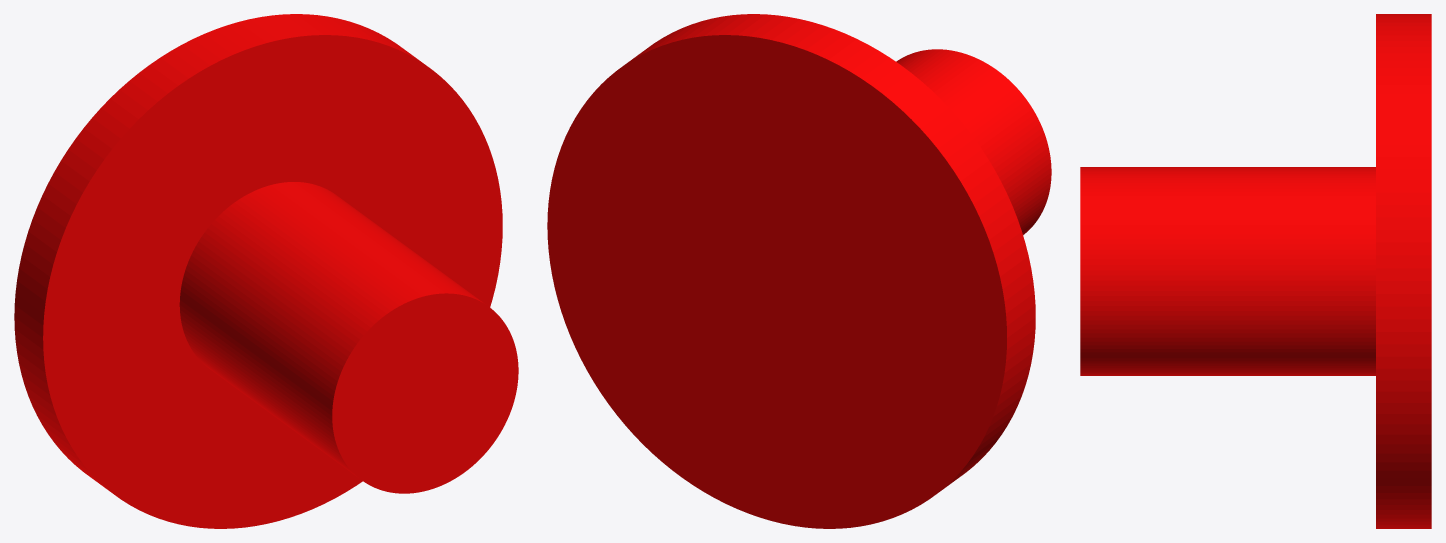
3 renders of one model, left to right at view 1: azimuth 30°, elevation 25°; view 2: azimuth 150°, elevation 25°; view 3: azimuth 270°, elevation 25°, orthographic. The views are drawn at different scales.
Visible parts, largest first — view 1: link6.glb; view 2: link6.glb; view 3: link6.glb.
Part boxes in pixels (x1=…): link6.glb: x1=14, y1=14, x2=518, y2=528; link6.glb: x1=547, y1=14, x2=1051, y2=528; link6.glb: x1=1080, y1=14, x2=1431, y2=528.
Size of the model in its own units: 74 by 73.98 by 50.5.
